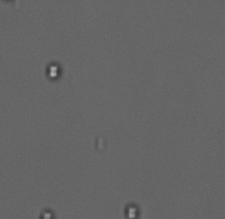Living Cell: (45, 63, 63, 80), (123, 202, 141, 218)
